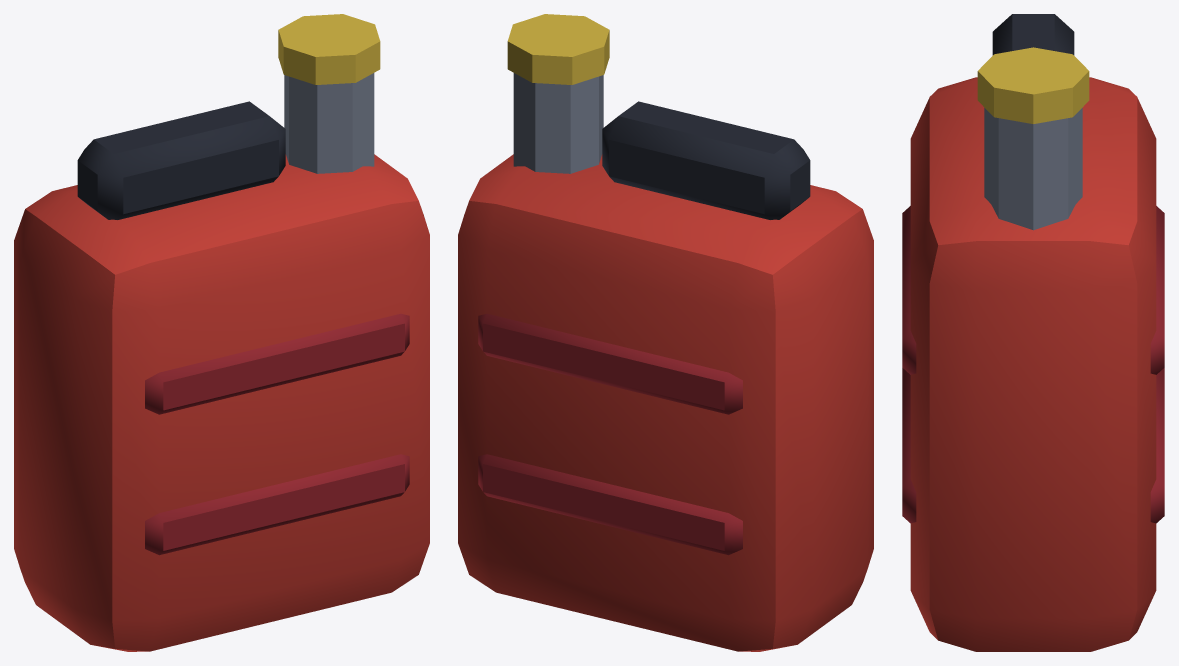
File: cg_fuel.glb
The picture shows the model from 3 angles, left to right: view 1: azimuth 30°, elevation 25°; view 2: azimuth 150°, elevation 25°; view 3: azimuth 270°, elevation 25°; orthographic projection. The views are drawn at different scales.
Parts seen in each view (by area): view 1: body; view 2: body; view 3: body.
Boxes of the visible parts, left/top/right/bottom form: body: left=14, top=14, right=429, bottom=651; body: left=458, top=14, right=873, bottom=651; body: left=902, top=14, right=1164, bottom=651.
Size of the model in its own units: 0.26 by 0.385 by 0.16.
